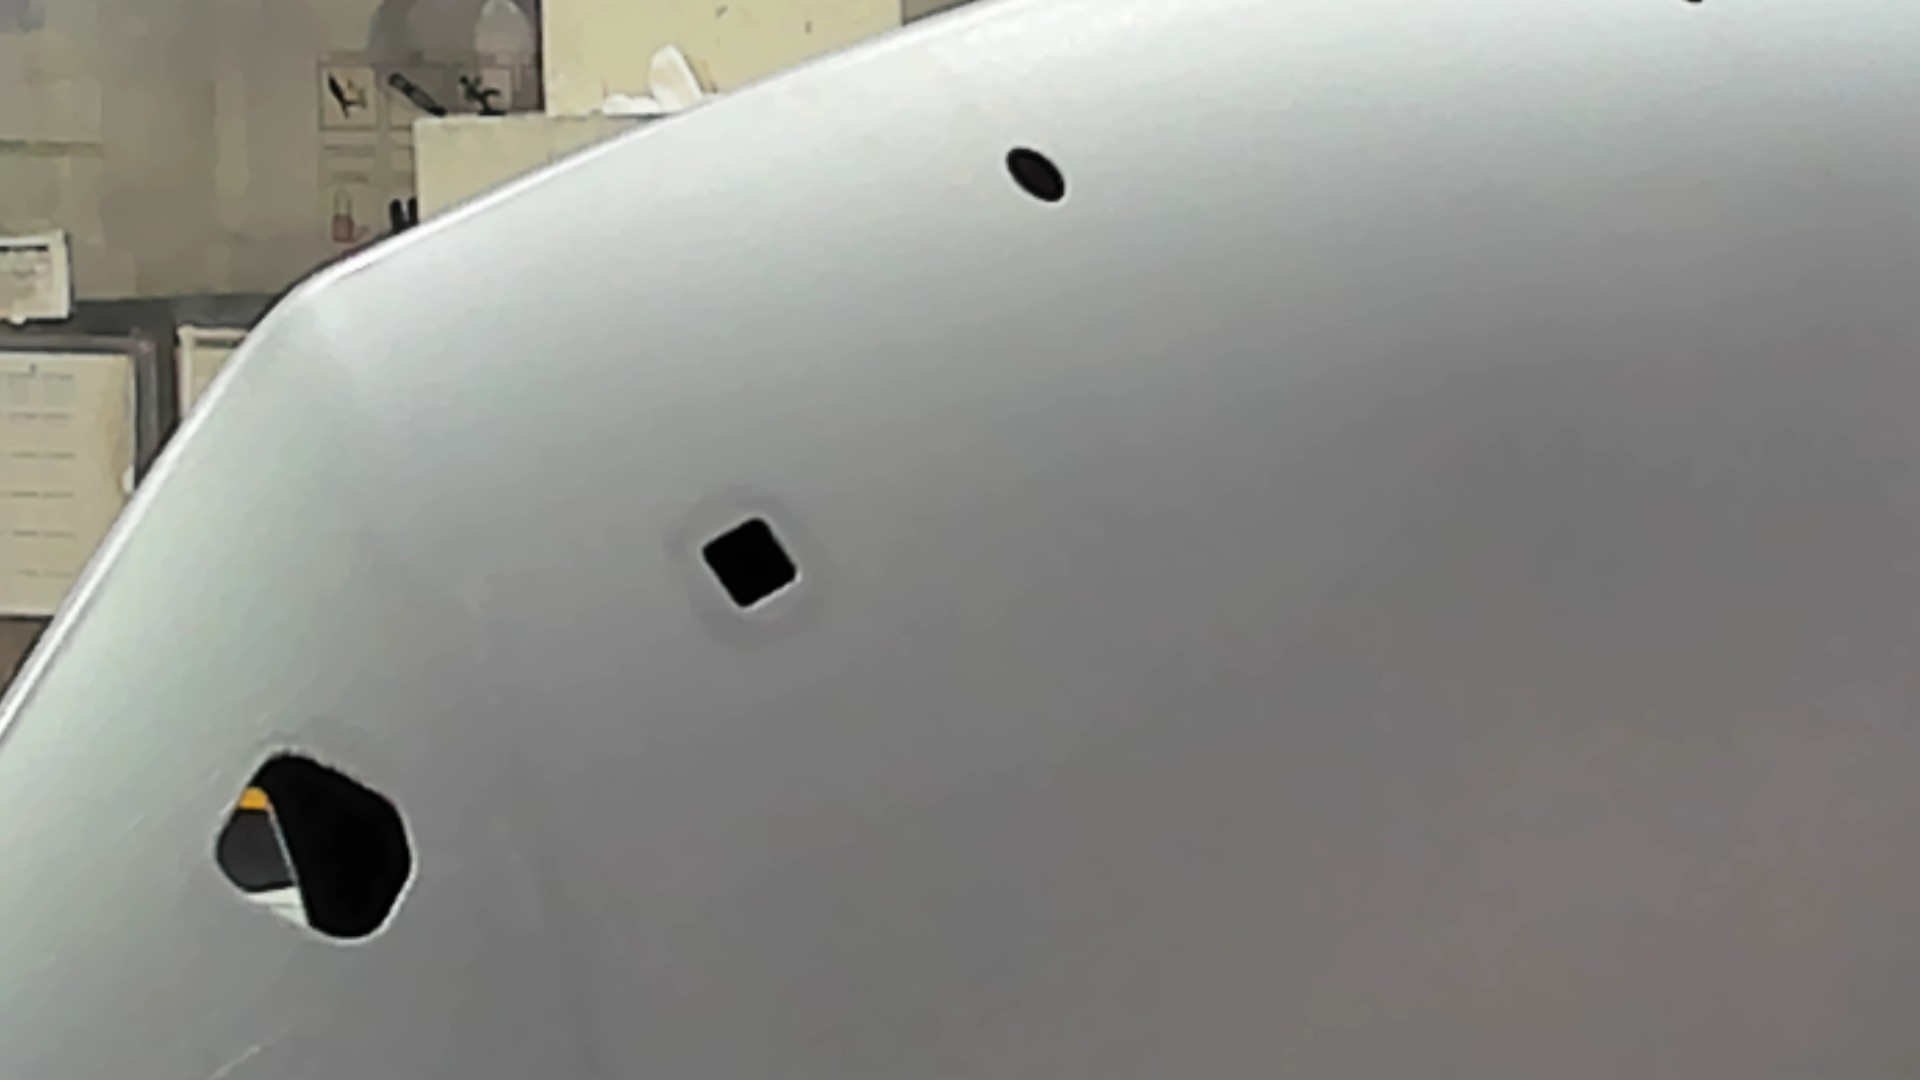chico: (998, 141, 1071, 208)
grande: (207, 741, 423, 951)
mediano: (694, 508, 808, 622)
